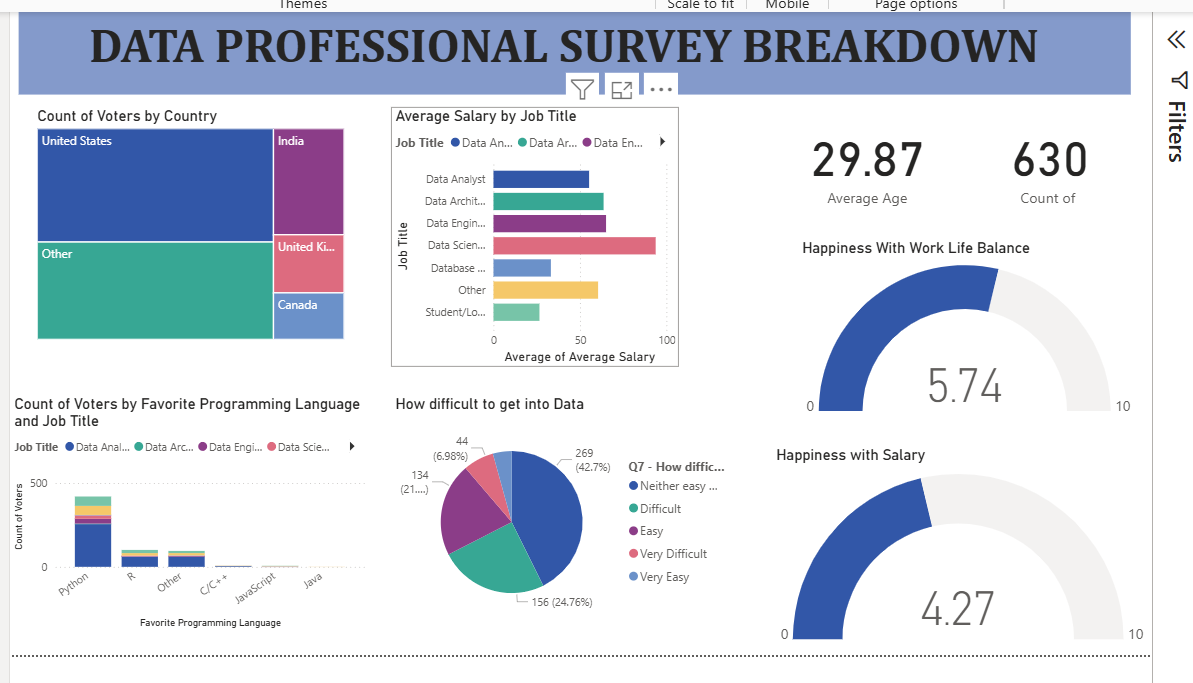

The dashboard page shown, as its layout file describes it:
{"tool":"powerbi","page":{"name":"Page 1","canvas":[1280,720],"ordinal":0},"visuals":[{"type":"textbox","box":[10.4,0,1245.8,92.5],"z":0},{"type":"card","fields":{"Values":["Count(Data Professional Survey.Unique ID)"]},"box":[1074.1,106.3,182,125.6],"z":1},{"type":"card","fields":{"Values":["Avg(Data Professional Survey.Q10 - Current Age)"]},"box":[872.8,106.3,175.5,125.6],"z":2},{"type":"barChart","title":"Average Salary by Job Title","fields":{"Category":["Data Professional Survey.Q1 - Which Title Best Fits your Current Role?.1"],"Y":["Avg(Data Professional Survey.Average Salary)"],"Series":["Data Professional Survey.Q1 - Which Title Best Fits your Current Role?.1"]},"box":[426.7,105.9,323.8,292.4],"z":3},{"type":"columnChart","fields":{"Category":["Data Professional Survey.Q5 - Favorite Programming Language.1"],"Y":["CountNonNull(Data Professional Survey.Unique ID)"],"Series":["Data Professional Survey.Q1 - Which Title Best Fits your Current Role?.1"]},"box":[0,428.4,402.6,267.3],"z":4},{"type":"treemap","fields":{"Group":["Data Professional Survey.Q11 - Which Country do you live in?.1"],"Values":["CountNonNull(Data Professional Survey.Unique ID)"]},"box":[25.4,105.9,353.6,265.6],"z":5},{"type":"gauge","title":"Happiness With Work Life Balance","fields":{"Y":["Avg(Data Professional Survey.Q6 - How Happy are you in your Current Position with the following? (Work/Life Balance))"],"MinValue":["Min(Data Professional Survey.Q6 - How Happy are you in your Current Position with the following? (Work/Life Balance))1"],"MaxValue":["Max(Data Professional Survey.Q6 - How Happy are you in your Current Position with the following? (Work/Life Balance))2"],"TargetValue":["CountNonNull(Data Professional Survey.Unique ID)"]},"box":[882.5,254.4,383.3,207.7],"z":6},{"type":"gauge","title":"Happiness with Salary","fields":{"Y":["Avg(Data Professional Survey.Q6 - How Happy are you in your Current Position with the following? (Salary))"],"MinValue":["Min(Data Professional Survey.Q6 - How Happy are you in your Current Position with the following? (Salary))"],"MaxValue":["Max(Data Professional Survey.Q6 - How Happy are you in your Current Position with the following? (Salary))1"]},"box":[853.5,486.3,426.7,233.5],"z":7},{"type":"pieChart","title":"How difficult  to get into Data","fields":{"Category":["Data Professional Survey.Q7 - How difficult was it for you to break into Data?"],"Y":["CountNonNull(Data Professional Survey.Q7 - How difficult was it for you to break into Data?)"]},"box":[427,428,383,267],"z":8}]}

Visuals, with their boxes on the page's 1280x720 design canvas (x1, y1, x2, y2). These are canvas units, not pixel positions in the 1193x683 screenshot, which may show the page scaled, cropped or inside an application window:
textbox: 10,0,1256,92
card - Count(Data Professional Survey.Unique ID): 1074,106,1256,232
card - Avg(Data Professional Survey.Q10 - Current Age): 873,106,1048,232
"Average Salary by Job Title" barChart: 427,106,750,398
columnChart - Data Professional Survey.Q5 - Favorite Programming Language.1 x CountNonNull(Data Professional Survey.Unique ID): 0,428,403,696
treemap - Data Professional Survey.Q11 - Which Country do you live in?.1 x CountNonNull(Data Professional Survey.Unique ID): 25,106,379,372
"Happiness With Work Life Balance" gauge: 882,254,1266,462
"Happiness with Salary" gauge: 854,486,1280,720
"How difficult  to get into Data" pieChart: 427,428,810,695
